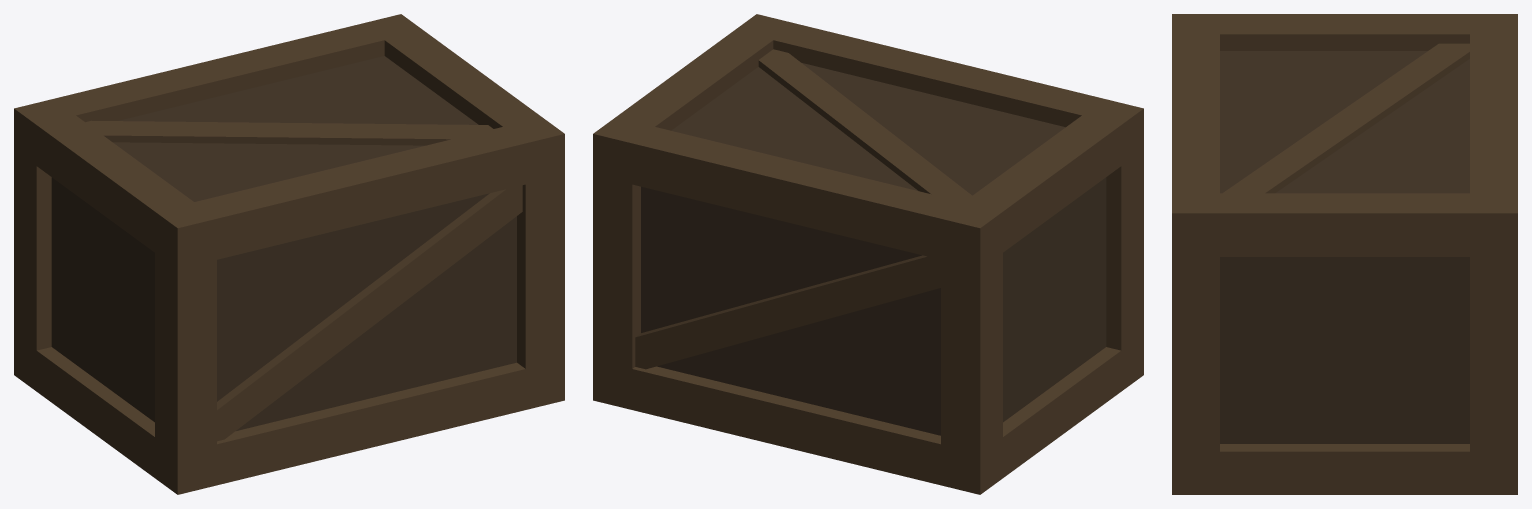
File: SmallCrate.fbx
The picture shows the model from 3 angles, left to right: view 1: azimuth 30°, elevation 25°; view 2: azimuth 150°, elevation 25°; view 3: azimuth 270°, elevation 25°; orthographic projection. The views are drawn at different scales.
Visible parts, largest first — view 1: SmallCrate; view 2: SmallCrate; view 3: SmallCrate.
Part boxes in pixels (box(x1,y1,x2,y2)): SmallCrate: box(14, 14, 564, 494); SmallCrate: box(593, 14, 1143, 494); SmallCrate: box(1172, 14, 1517, 494).
Size of the model in its own units: 32.71 by 21.53 by 23.96.
